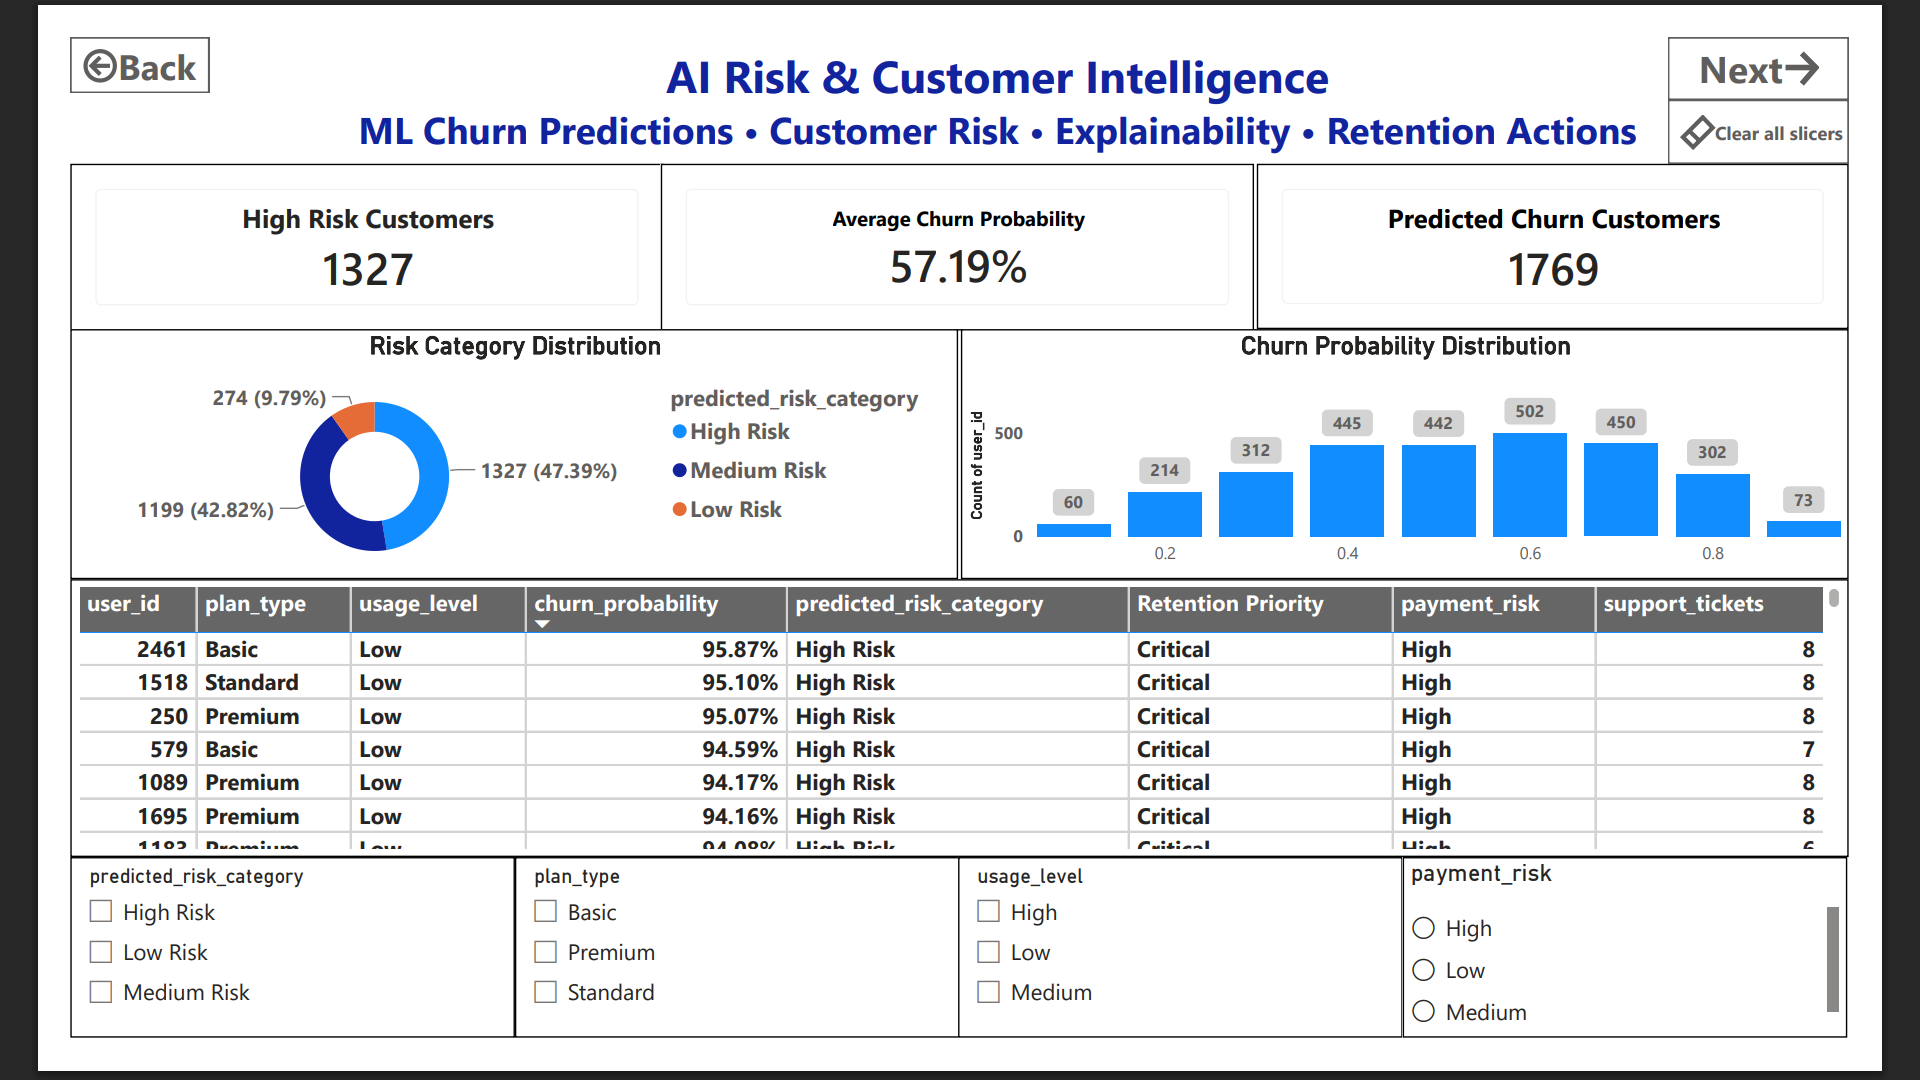

The dashboard page shown, as its layout file describes it:
{"tool":"powerbi","page":{"name":"AI Risk & Customer Intelligence","canvas":[1280,720],"ordinal":1},"visuals":[{"type":"textbox","box":[185.2,0,965,90],"z":0},{"type":"cardVisual","fields":{"Data":["Customer Churn.Predicted Churn Customers"]},"box":[853.5,90.6,426,119.4],"z":1000},{"type":"cardVisual","fields":{"Data":["Customer Churn.High Risk Customers"]},"box":[0,90.6,427,120],"z":2000},{"type":"cardVisual","fields":{"Data":["Customer Churn.Average Churn Probability"]},"box":[425.4,90.6,427,120],"z":3000},{"type":"donutChart","title":"Risk Category Distribution","fields":{"Category":["Customer Churn.predicted_risk_category"],"Y":["CountNonNull(Customer Churn.user_id)"]},"box":[0,209.9,639.5,179.8],"z":4000},{"type":"clusteredColumnChart","title":"Churn Probability Distribution","fields":{"Y":["CountNonNull(Customer Churn.user_id)"],"Category":["Customer Churn.Churn Probability Bin"]},"box":[640.8,209.9,639.5,179.8],"z":5000},{"type":"tableEx","fields":{"Values":["Customer Churn.user_id","Customer Churn.plan_type","Customer Churn.usage_level","Customer Churn.churn_probability","Customer Churn.predicted_risk_category","Customer Churn.payment_risk","Customer Churn.support_tickets"]},"box":[0,389.7,1280.3,200],"z":6000},{"type":"slicer","fields":{"Values":["Customer Churn.predicted_risk_category"]},"box":[0,590.1,320,130],"z":7000},{"type":"slicer","fields":{"Values":["Customer Churn.plan_type"]},"box":[319.7,590.1,320,130],"z":8000},{"type":"slicer","fields":{"Values":["Customer Churn.usage_level"]},"box":[639.5,590.1,320,130],"z":9000},{"type":"listSlicer","fields":{"Values":["Customer Churn.payment_risk"]},"box":[959.2,590.1,320,130.4],"z":10000},{"type":"actionButton","box":[1149.9,0,130.4,45.3],"z":11000},{"type":"actionButton","box":[1149.9,45.3,130.4,45.3],"z":12000},{"type":"actionButton","box":[0,0,100,40],"z":13000}]}

Visuals, with their boxes in screenshot pixels (x1, y1, x2, y2), scaled from the page's 1280x720 canvas onto the 1920x1080 screenshot:
textbox: 278,0,1725,135
cardVisual - Customer Churn.Predicted Churn Customers: 1280,136,1919,315
cardVisual - Customer Churn.High Risk Customers: 0,136,640,316
cardVisual - Customer Churn.Average Churn Probability: 638,136,1279,316
"Risk Category Distribution" donutChart: 0,315,959,585
"Churn Probability Distribution" clusteredColumnChart: 961,315,1919,585
tableEx - Customer Churn.user_id x Customer Churn.plan_type: 0,585,1919,885
slicer - Customer Churn.predicted_risk_category: 0,885,480,1079
slicer - Customer Churn.plan_type: 480,885,960,1079
slicer - Customer Churn.usage_level: 959,885,1439,1079
listSlicer - Customer Churn.payment_risk: 1439,885,1919,1079
actionButton: 1725,0,1919,68
actionButton: 1725,68,1919,136
actionButton: 0,0,150,60
